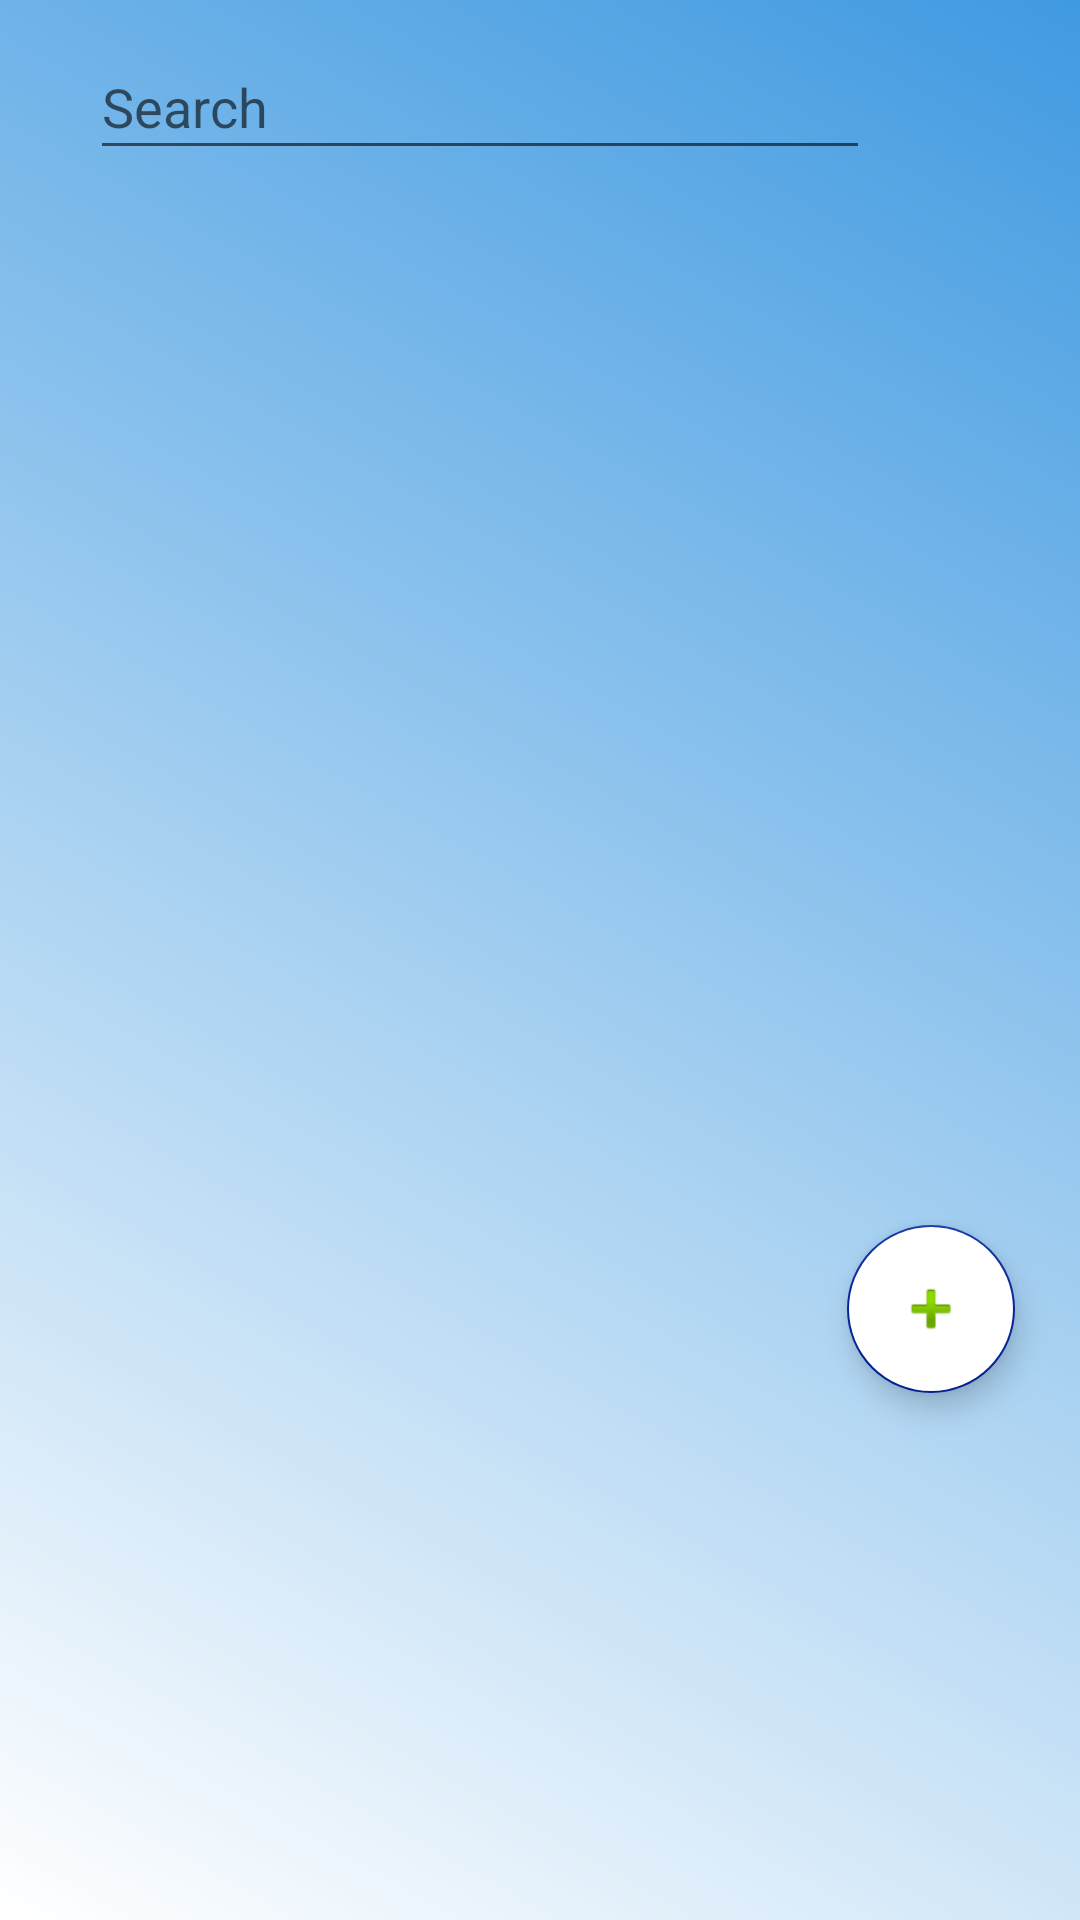

Icons on this 1080px×1920px Android screen, each with the point to tap as point (x, y):
add: point (931, 1309)
